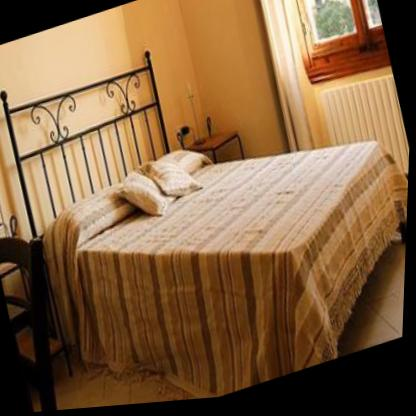Bed: (0, 0, 416, 416)
Window: (277, 0, 394, 98)
